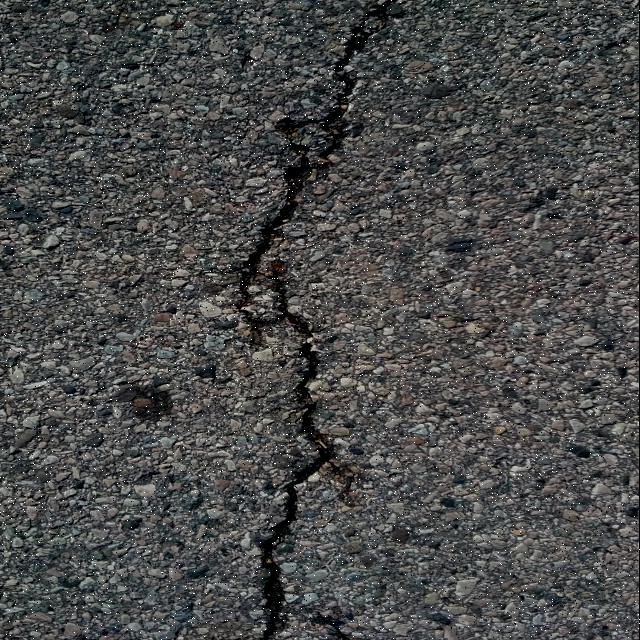Crack: (240, 0, 398, 640)
